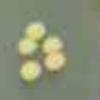yellow: (16, 58, 42, 86), (41, 52, 69, 75), (39, 35, 66, 56), (21, 21, 48, 42), (14, 37, 41, 58)
